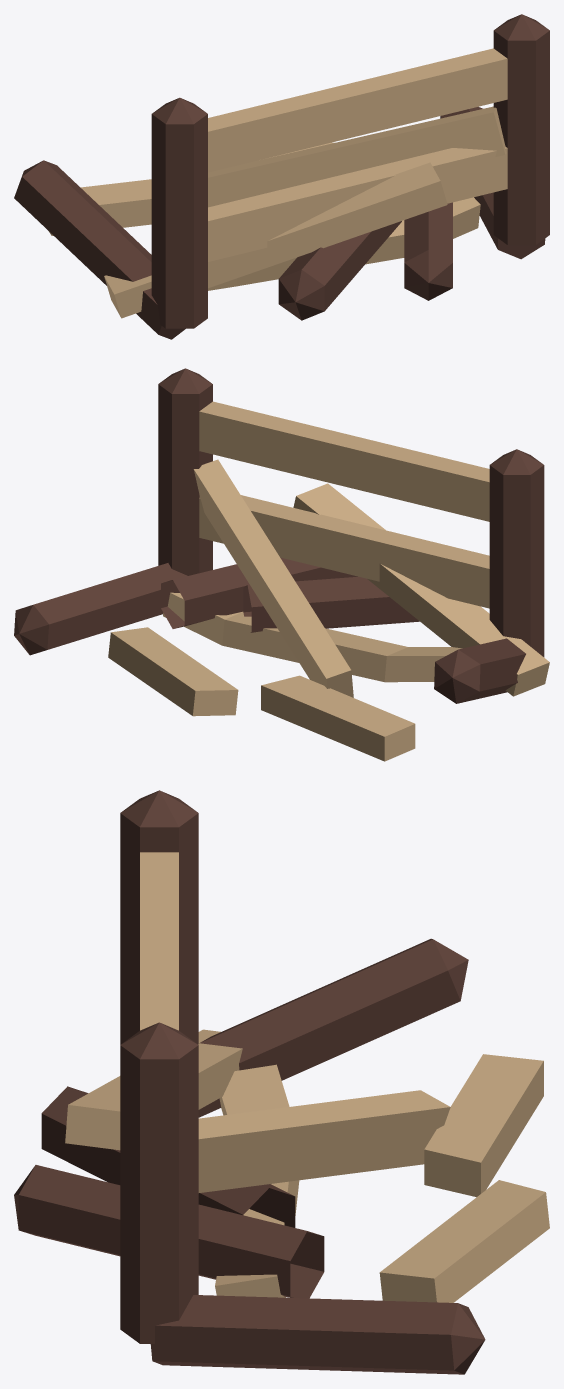
File: GreenForest_Obstacle01.fbx
The picture shows the model from 3 angles, top to bottom: view 1: azimuth 30°, elevation 25°; view 2: azimuth 150°, elevation 25°; view 3: azimuth 270°, elevation 25°; orthographic projection. The views are drawn at different scales.
Parts seen in each view (by area): view 1: GreenForest_Obstacle01, GreenForest_Obstacle01Source, GreenForest_Obstacle01Destroyed; view 2: GreenForest_Obstacle01, GreenForest_Obstacle01Destroyed, GreenForest_Obstacle01Source; view 3: GreenForest_Obstacle01Destroyed, GreenForest_Obstacle01Source, GreenForest_Obstacle01.
Boxes of the visible parts, x1,y1,x2,y2 form: GreenForest_Obstacle01: [151, 14, 549, 328]; GreenForest_Obstacle01Source: [104, 106, 506, 320]; GreenForest_Obstacle01Destroyed: [14, 106, 545, 339]; GreenForest_Obstacle01: [158, 368, 544, 657]; GreenForest_Obstacle01Destroyed: [14, 563, 525, 761]; GreenForest_Obstacle01Source: [161, 459, 549, 697]; GreenForest_Obstacle01Destroyed: [150, 938, 549, 1374]; GreenForest_Obstacle01Source: [14, 1029, 450, 1298]; GreenForest_Obstacle01: [120, 790, 198, 1343].
Bounding box in the file's own units: 1.95 × 0.9635 × 1.37.
